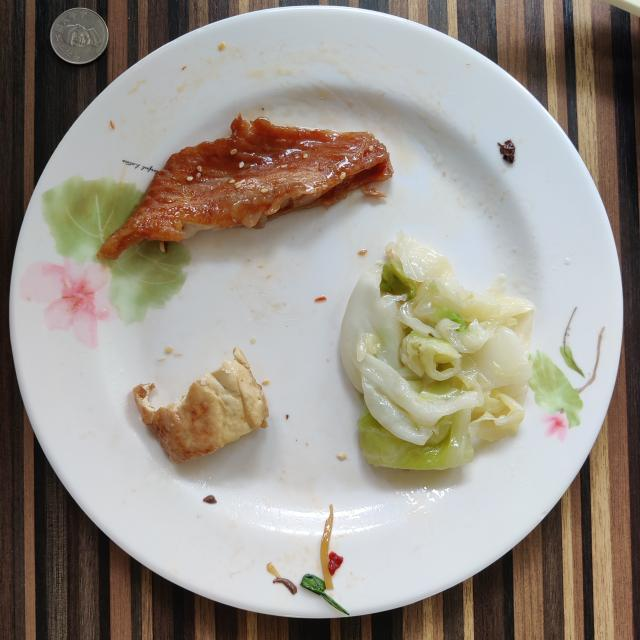Kabayaki sea bream fillet: (98, 115, 392, 260)
cabbage: (341, 232, 534, 470)
coin: (50, 8, 109, 64)
